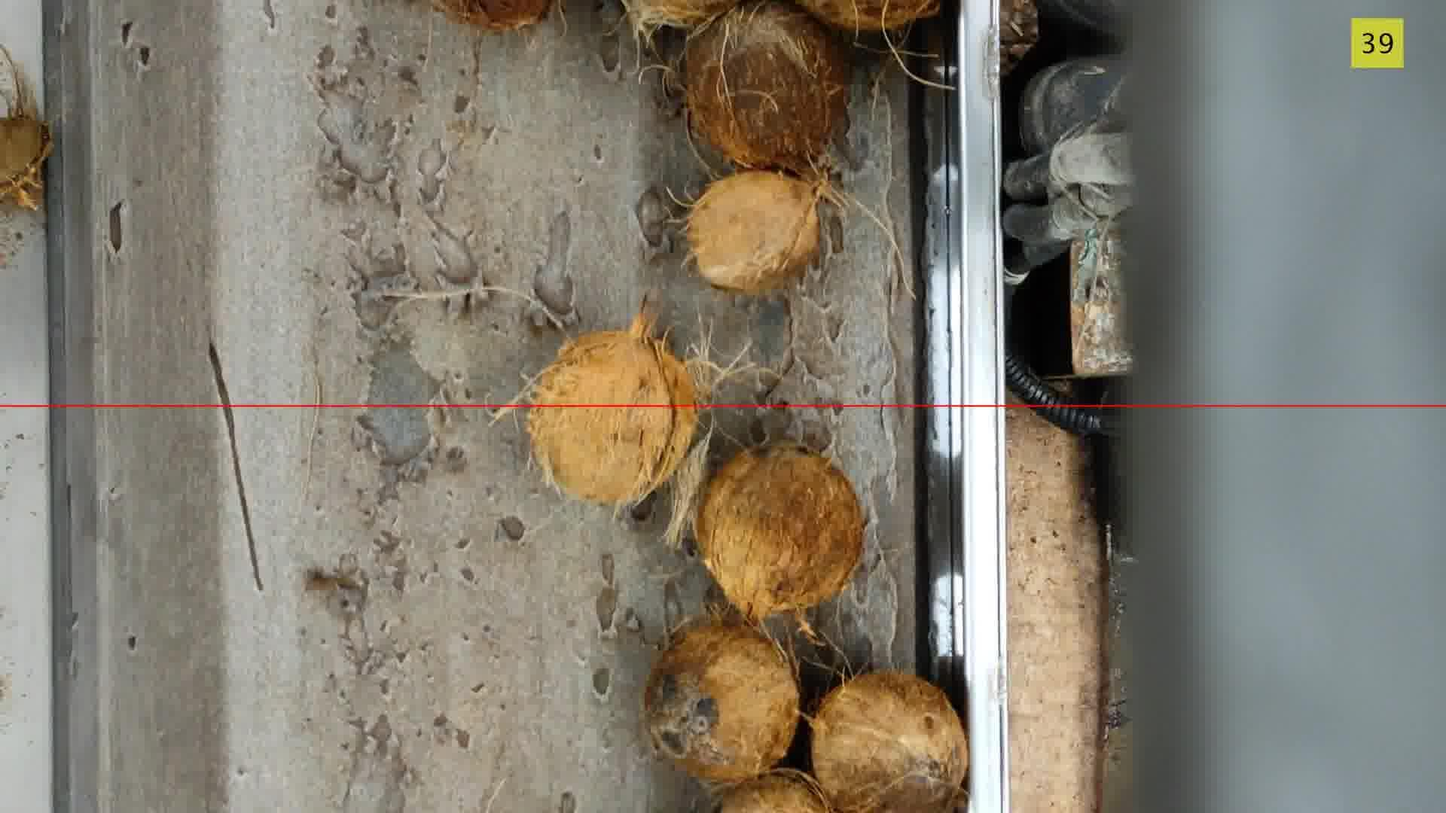Coconut: (527, 307, 698, 507), (695, 443, 865, 621), (683, 0, 851, 175), (643, 621, 799, 782), (810, 671, 968, 812), (684, 170, 832, 296), (0, 46, 53, 210), (624, 0, 739, 44), (795, 0, 940, 34), (712, 772, 832, 812), (432, 0, 556, 31)
